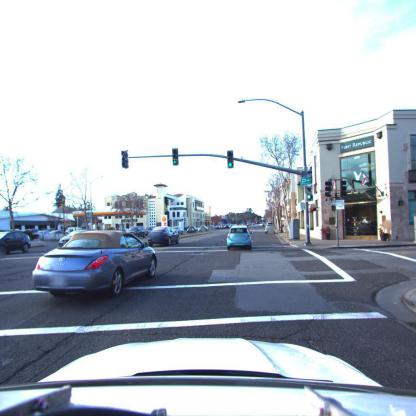car: (1, 337, 416, 416), (33, 229, 160, 297), (0, 230, 33, 255), (228, 226, 255, 251), (148, 227, 180, 248), (39, 230, 64, 241), (128, 226, 150, 238), (265, 223, 275, 234), (198, 225, 208, 233), (188, 226, 198, 233), (258, 223, 264, 228)
